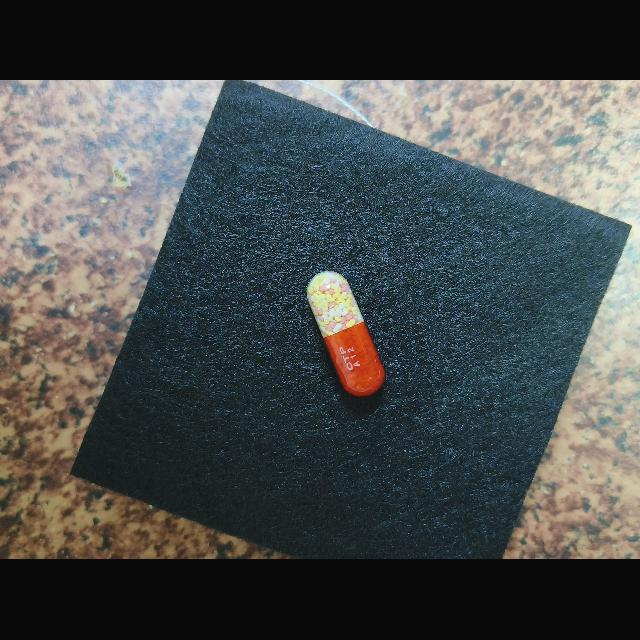Intact Capsule: (306, 272, 385, 397)
